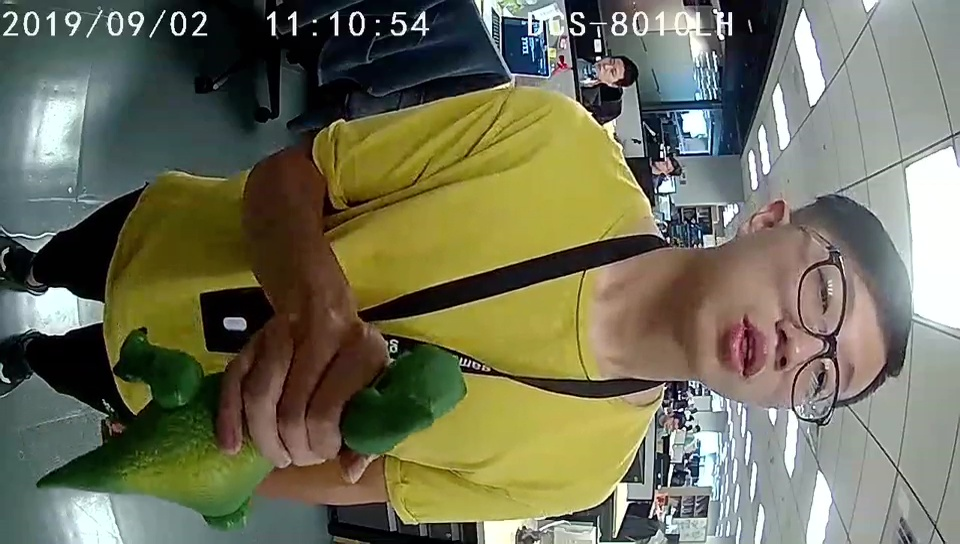rex: (144, 344, 468, 531)
